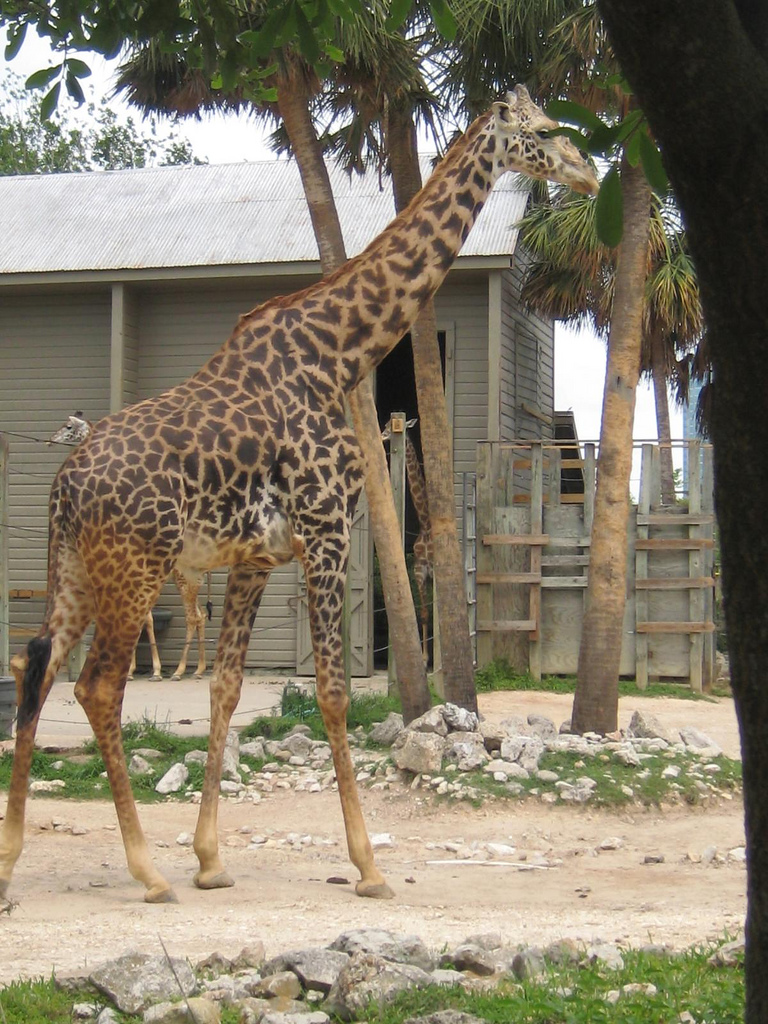giraffe: (40, 88, 603, 860)
